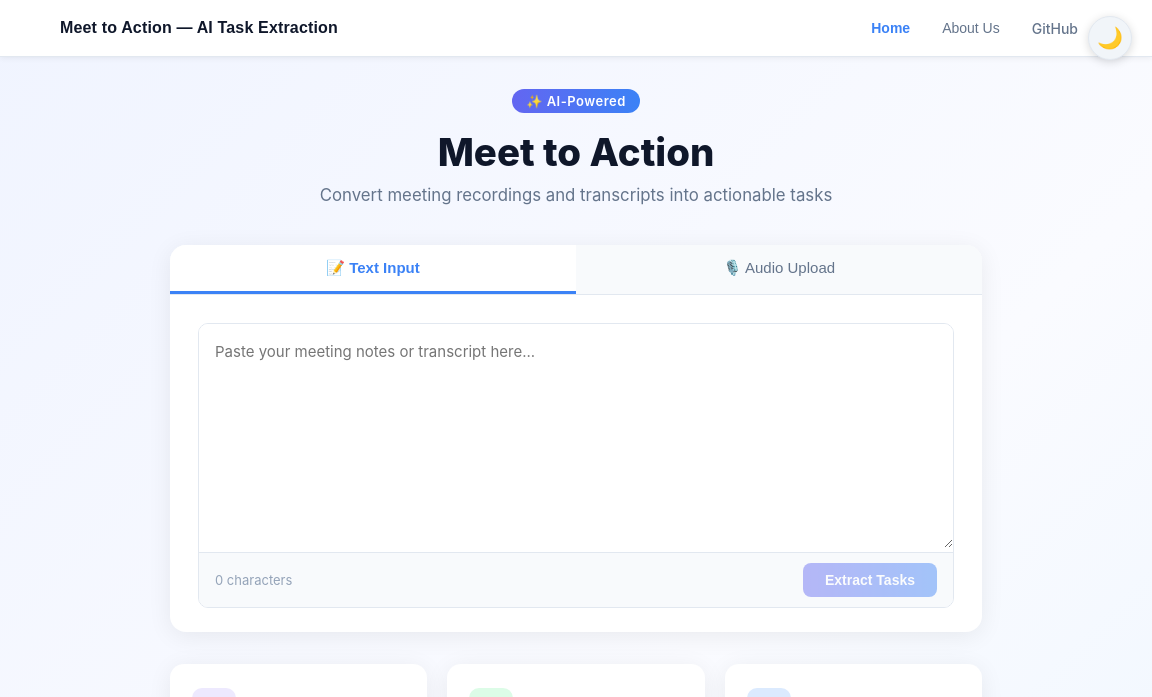
it: Extract Tasks button is enabled after typing
The width and height of the screenshot is (1152, 697).
Type "Alice will prepare the report by Friday." into the text box named "Meeting text input". click: (576, 436)
box: x1=199 y1=324 x2=953 y2=548
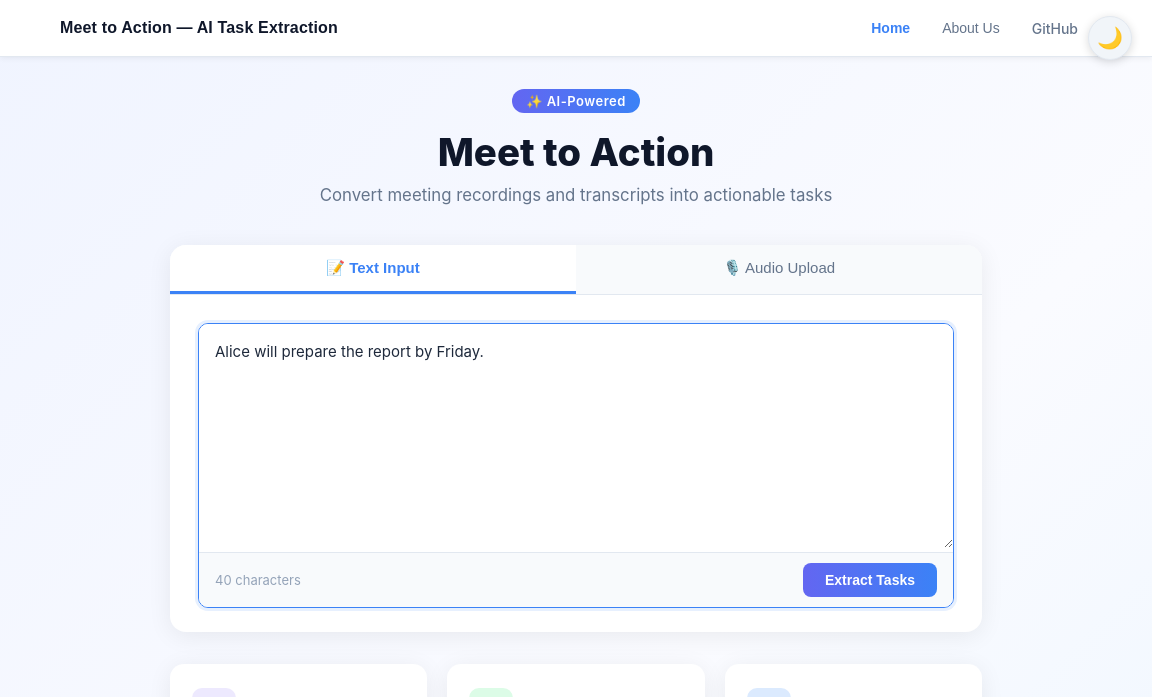
Expected: the button "Extract Tasks" is enabled, x1=803 y1=563 x2=937 y2=597
